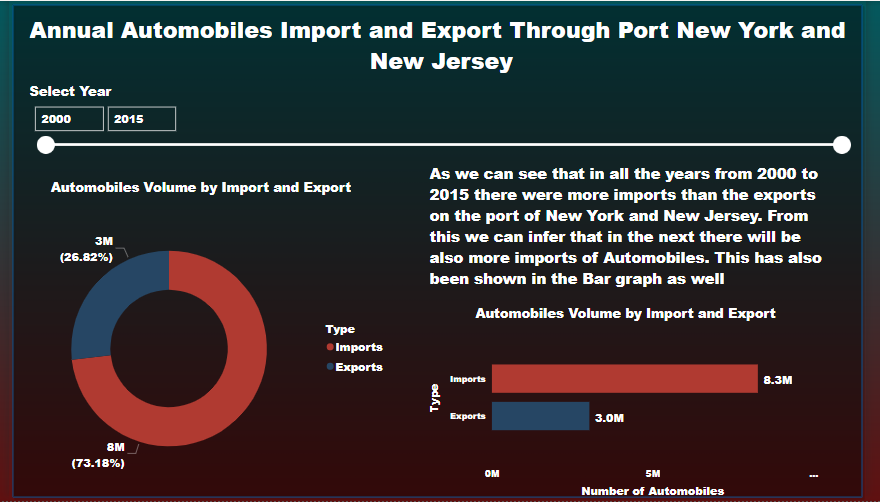

The page's visual inventory and layout, read from the dashboard file:
{"tool":"powerbi","page":{"name":"Page 1","canvas":[1280,720],"ordinal":0},"visuals":[{"type":"shape","box":[17.3,13,1234.1,707],"z":0},{"type":"textbox","box":[42,13.4,1196,102.5],"z":1000},{"type":"slicer","title":"Select Year","fields":{"Values":["automobiles-annual-imports-and-exports-through-port-authority-of-ny-nj-maritime-.Year"]},"box":[42,115.9,1196,112.5],"z":2000},{"type":"donutChart","title":"Automobiles Volume by Import and Export","fields":{"Category":["automobiles-annual-imports-and-exports-through-port-authority-of-ny-nj-maritime-.Type"],"Y":["Sum(automobiles-annual-imports-and-exports-through-port-authority-of-ny-nj-maritime-.Automobile Volume)"]},"box":[16.8,253.6,552.7,467],"z":3000},{"type":"textbox","box":[618.2,228.5,598,193.2],"z":4000},{"type":"barChart","title":"Automobiles Volume by Import and Export","fields":{"Category":["automobiles-annual-imports-and-exports-through-port-authority-of-ny-nj-maritime-.Type"],"Y":["Sum(automobiles-annual-imports-and-exports-through-port-authority-of-ny-nj-maritime-.Automobile Volume)"]},"box":[618.2,435.1,574.5,285.6],"z":5000}]}

Visuals, with their boxes in screenshot pixels (x1, y1, x2, y2), scaled from the page's 1280x720 canvas onto the 880x502 screenshot:
shape: select_region(12, 9, 860, 501)
textbox: select_region(29, 9, 851, 81)
"Select Year" slicer: select_region(29, 81, 851, 159)
"Automobiles Volume by Import and Export" donutChart: select_region(12, 177, 392, 501)
textbox: select_region(425, 159, 836, 294)
"Automobiles Volume by Import and Export" barChart: select_region(425, 303, 820, 501)
